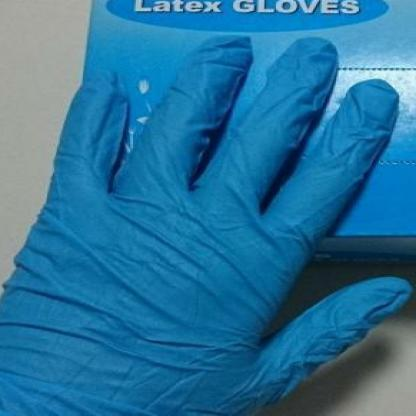with_gloves: (4, 33, 412, 415)
